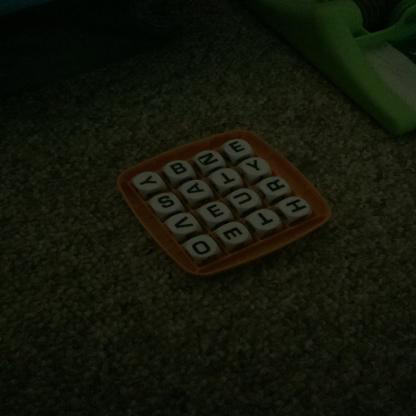a: (182, 181, 210, 197)
b: (164, 160, 192, 180)
e: (223, 138, 251, 158), (202, 202, 229, 222), (220, 226, 248, 244)
h: (283, 198, 310, 216)
n: (196, 151, 225, 170)
o: (189, 240, 215, 258)
r: (263, 178, 290, 195)
s: (154, 195, 179, 213)
t: (253, 210, 279, 229), (216, 171, 240, 188)
u: (230, 189, 256, 208)
v: (170, 215, 198, 234)
y: (133, 172, 164, 192), (242, 157, 267, 176)
